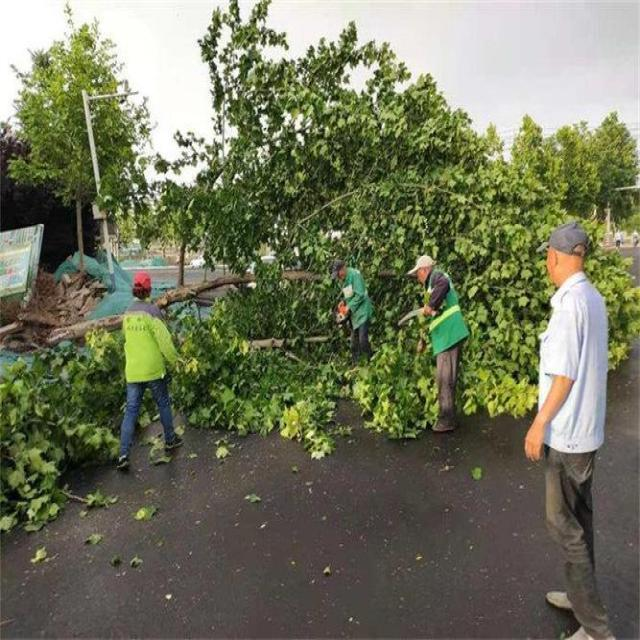fallen_object: (18, 0, 638, 433)
